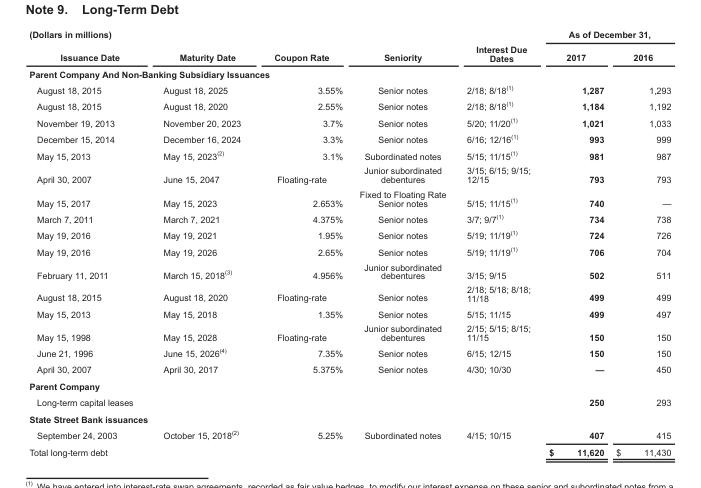table: (28, 29, 670, 456)
table column: (140, 29, 256, 456), (28, 29, 140, 456), (350, 29, 455, 456), (256, 29, 350, 456), (455, 29, 539, 456), (539, 29, 609, 456), (609, 29, 670, 456)
table column header: (28, 29, 670, 65)
table projected row header: (28, 377, 670, 394), (28, 65, 670, 81), (28, 410, 670, 426)
table row: (28, 186, 670, 210), (28, 163, 670, 186), (28, 259, 670, 282), (28, 282, 670, 305), (28, 321, 670, 344), (28, 45, 670, 65), (28, 113, 670, 130), (28, 146, 670, 163), (28, 242, 670, 259), (28, 344, 670, 361), (28, 377, 670, 394), (28, 426, 670, 443), (28, 29, 670, 45), (28, 65, 670, 81), (28, 81, 670, 97), (28, 97, 670, 113), (28, 130, 670, 146), (28, 210, 670, 226), (28, 226, 670, 242), (28, 305, 670, 321), (28, 361, 670, 377), (28, 394, 670, 410), (28, 410, 670, 426), (28, 443, 670, 456)
table spanning cell: (140, 29, 256, 65), (28, 29, 140, 65), (350, 29, 455, 65), (28, 394, 256, 410), (256, 29, 350, 65), (455, 29, 539, 65), (539, 29, 670, 45)
